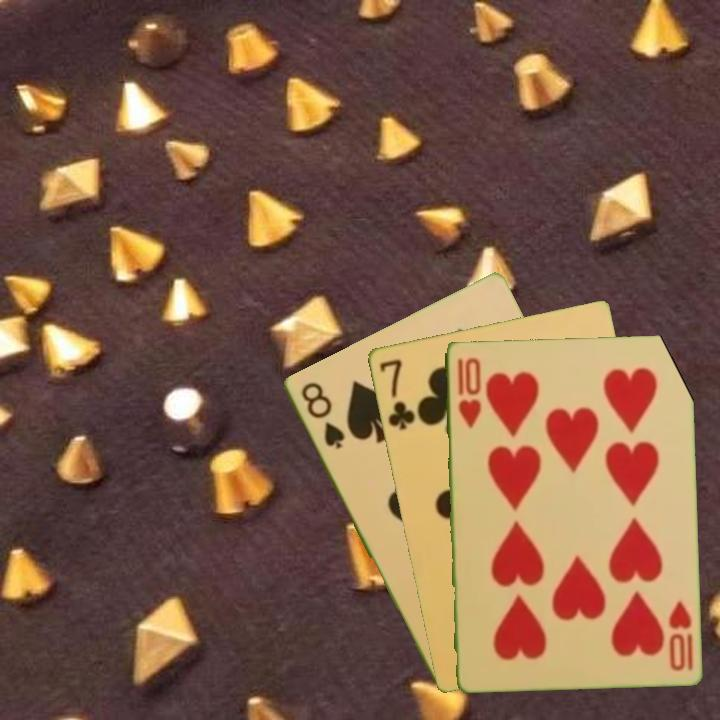10h: (453, 354, 484, 431), (665, 597, 695, 673)
7c: (375, 355, 418, 433)
8s: (297, 378, 348, 452)
